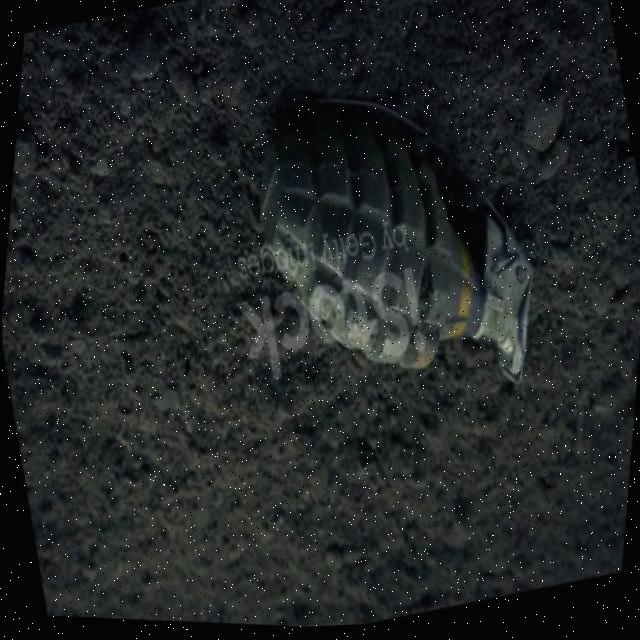grenade: (207, 34, 578, 463)
